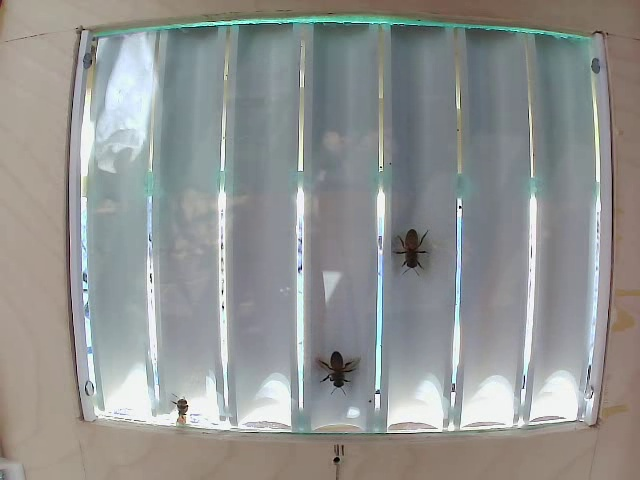bee: (318, 333, 369, 396), (392, 221, 432, 288), (161, 389, 213, 427)
